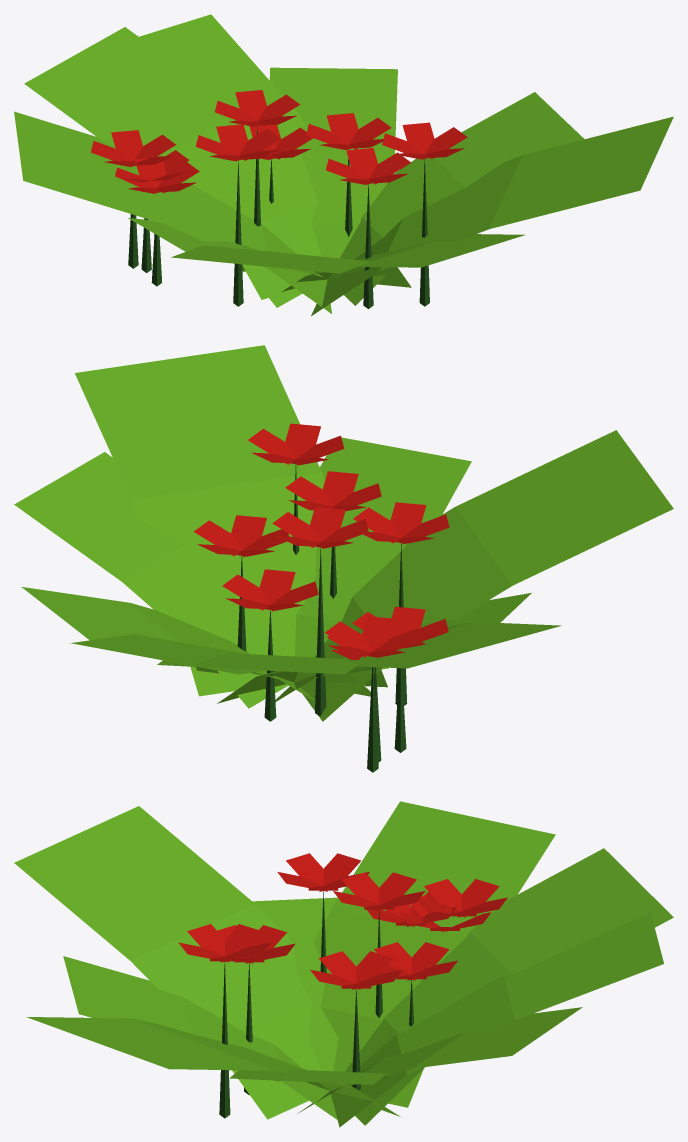
Rendered from SM_Pandora_RedFlowers.fbx.
3 renders of one model, top to bottom at view 1: azimuth 30°, elevation 25°; view 2: azimuth 150°, elevation 25°; view 3: azimuth 270°, elevation 25°, orthographic. The views are drawn at different scales.
Parts seen in each view (by area): view 1: SM_Pandora_RedFlowers; view 2: SM_Pandora_RedFlowers; view 3: SM_Pandora_RedFlowers.
Part boxes in pixels (bbox=[...]): SM_Pandora_RedFlowers: bbox=[14, 14, 673, 316]; SM_Pandora_RedFlowers: bbox=[14, 345, 673, 772]; SM_Pandora_RedFlowers: bbox=[14, 801, 673, 1127].
Bounding box in the file's own units: 1.88 × 0.5485 × 1.86.
